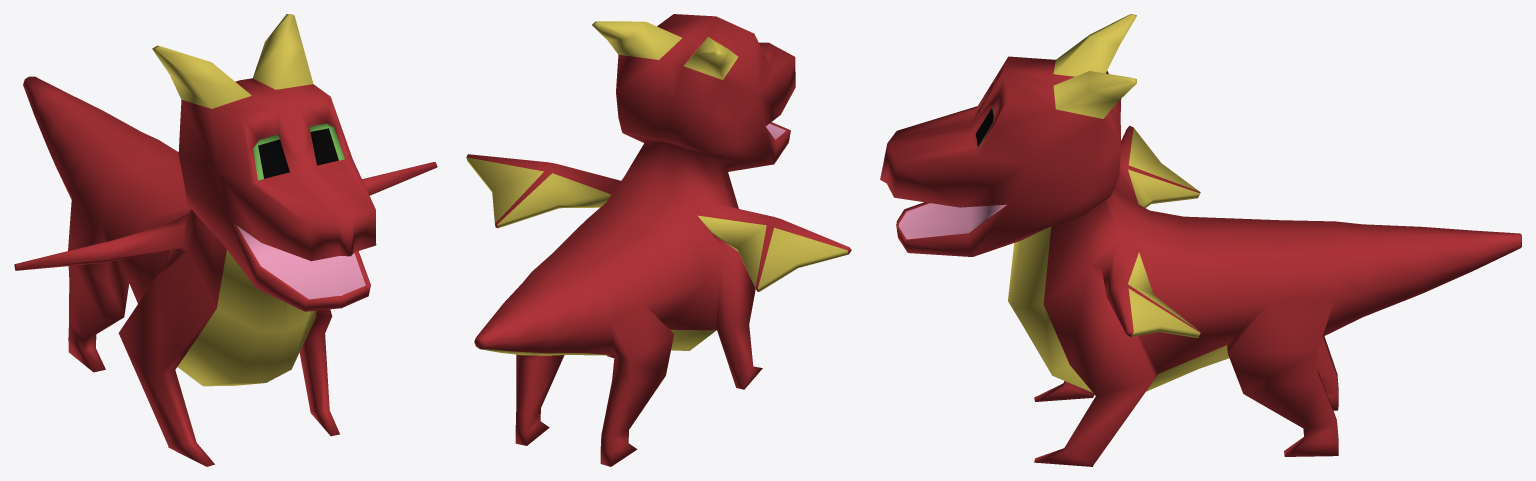
The model's file is BabyDragon_Model.fbx.
3 renders of one model, left to right at view 1: azimuth 30°, elevation 25°; view 2: azimuth 150°, elevation 25°; view 3: azimuth 270°, elevation 25°, orthographic. The views are drawn at different scales.
Visible parts, largest first — view 1: Cube; view 2: Cube; view 3: Cube.
Boxes of the visible parts, x1=… form: Cube: x1=14, y1=14, x2=437, y2=466; Cube: x1=466, y1=14, x2=851, y2=466; Cube: x1=880, y1=14, x2=1521, y2=466.
Size of the model in its own units: 3.84 by 3.36 by 5.09.
